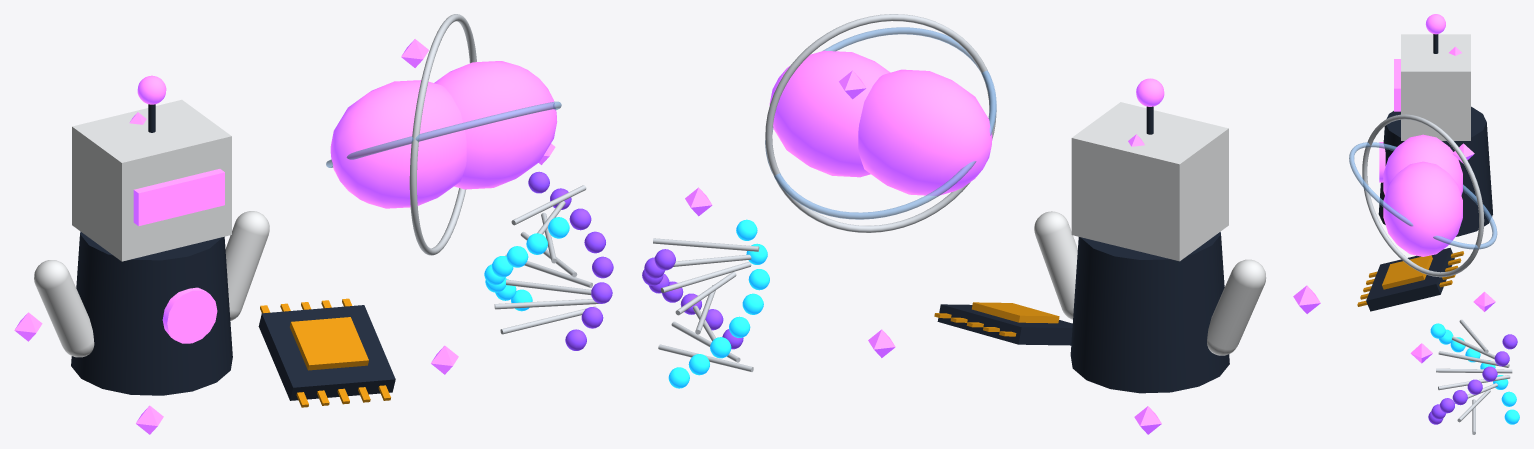
Rendered from ai-club.glb.
3 views of the same model, side by side, from view 1: azimuth 30°, elevation 25°; view 2: azimuth 150°, elevation 25°; view 3: azimuth 270°, elevation 25° (orthographic). The views are drawn at different scales.
Visible parts, largest first — view 1: robot, brain, ai_chip, dna_helix; view 2: robot, brain, dna_helix, ai_chip; view 3: brain, robot, dna_helix, ai_chip, floating_node_0, floating_node_5.
Boxes of the visible parts, <box> form: robot: <box>34,75,269,395</box>; brain: <box>326,14,561,255</box>; ai_chip: <box>258,298,395,407</box>; dna_helix: <box>484,171,613,350</box>; robot: <box>1034,78,1266,393</box>; brain: <box>765,14,996,232</box>; dna_helix: <box>642,219,769,388</box>; ai_chip: <box>934,302,1072,345</box>; brain: <box>1349,114,1497,277</box>; robot: <box>1378,14,1492,236</box>; dna_helix: <box>1428,319,1519,434</box>; ai_chip: <box>1357,247,1463,311</box>; floating_node_0: <box>1473,291,1495,311</box>; floating_node_5: <box>1410,343,1432,363</box>.
Size of the model in its own units: 4.05 by 2.29 by 1.34.
